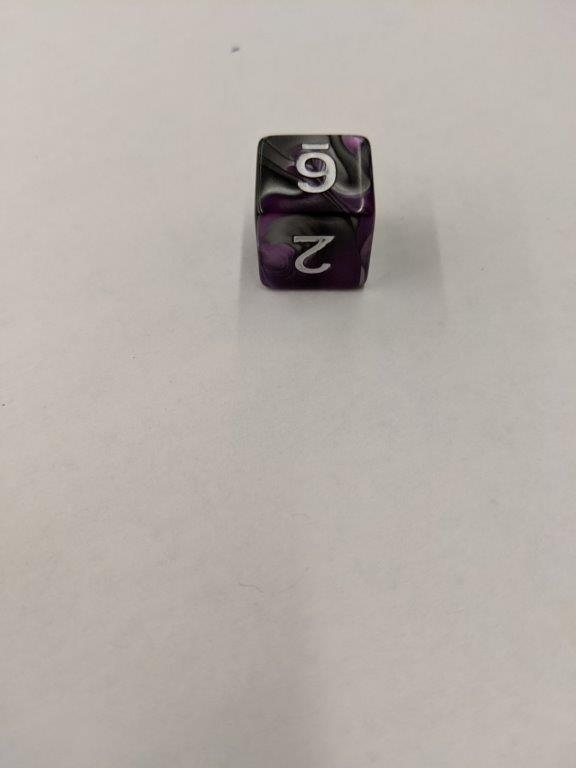d6-6: (254, 128, 378, 298)
